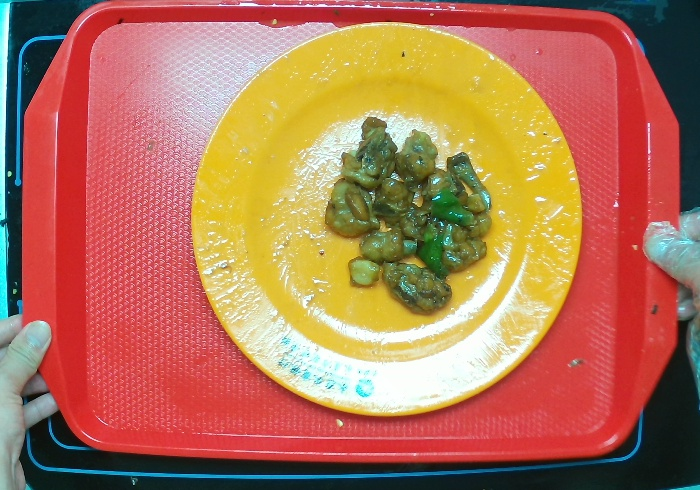YKMZ-Ju_Se_Mian_Pan: (188, 17, 582, 419)
